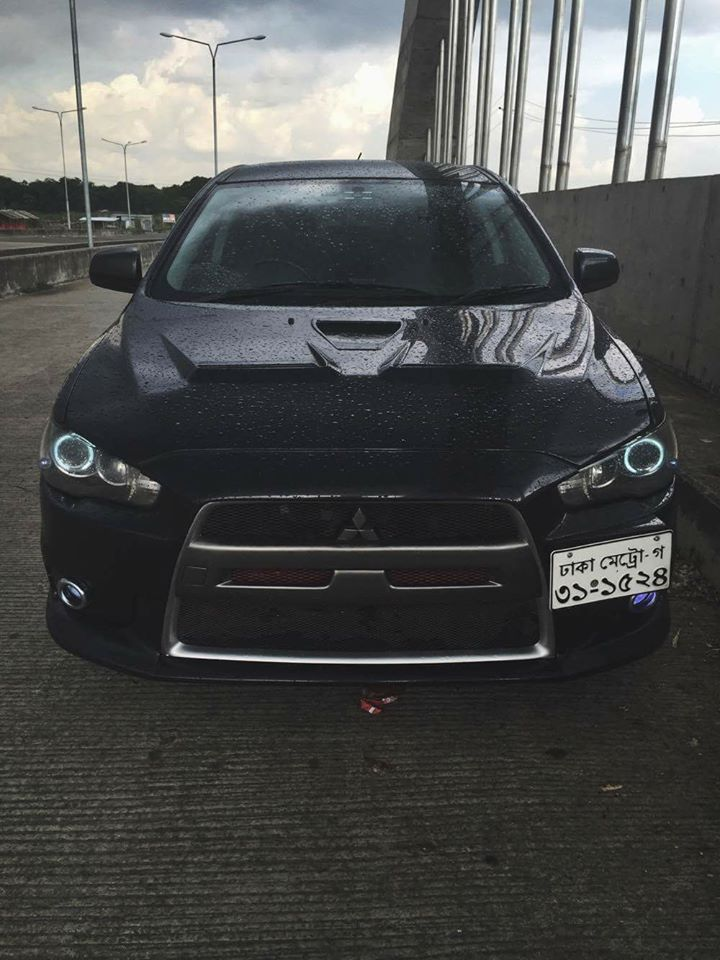registration_plate: (549, 529, 674, 613)
